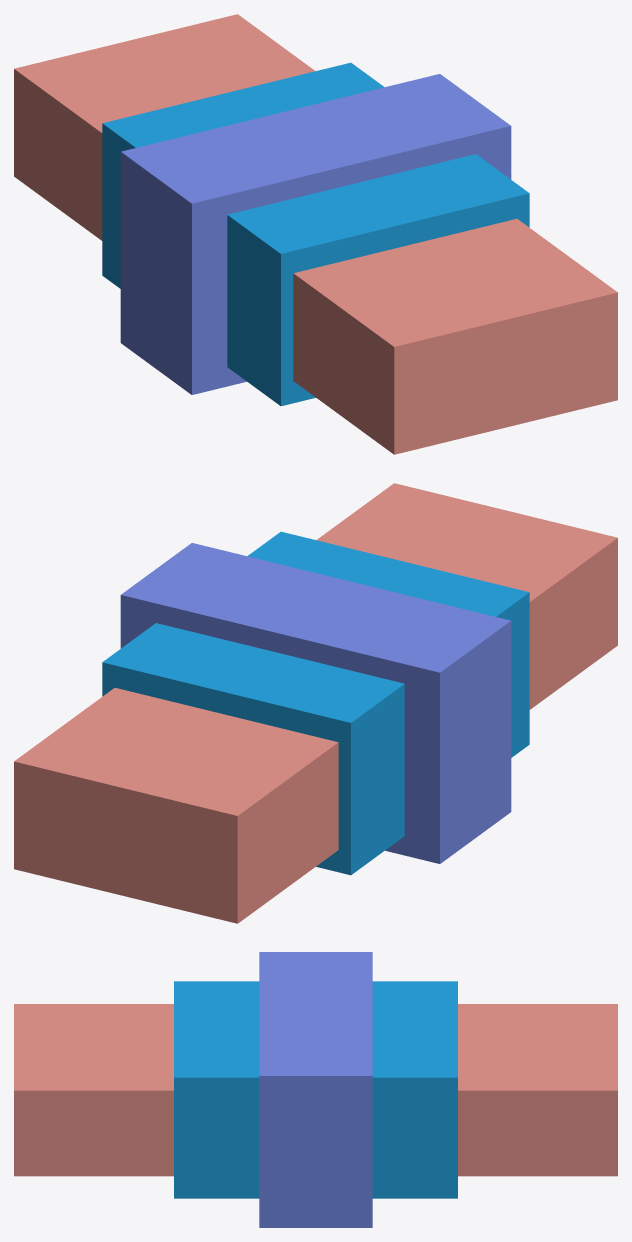
The picture shows the model from 3 angles, top to bottom: view 1: azimuth 30°, elevation 25°; view 2: azimuth 150°, elevation 25°; view 3: azimuth 270°, elevation 25°; orthographic projection. The views are drawn at different scales.
Visible parts, largest first — view 1: 立方体, 立方体.001, 立方体.002; view 2: 立方体, 立方体.001, 立方体.002; view 3: 立方体, 立方体.002, 立方体.001.
Part boxes in pixels (x1,y1,x2,y2): 立方体: (14, 14, 617, 454); 立方体.001: (120, 74, 511, 394); 立方体.002: (102, 62, 529, 406); 立方体: (14, 483, 617, 923); 立方体.001: (120, 543, 511, 863); 立方体.002: (102, 531, 529, 875); 立方体: (14, 1004, 617, 1176); 立方体.002: (174, 981, 457, 1198); 立方体.001: (259, 952, 372, 1227).
Bounding box in the file's own units: 1.85 × 1.06 × 3.81.
